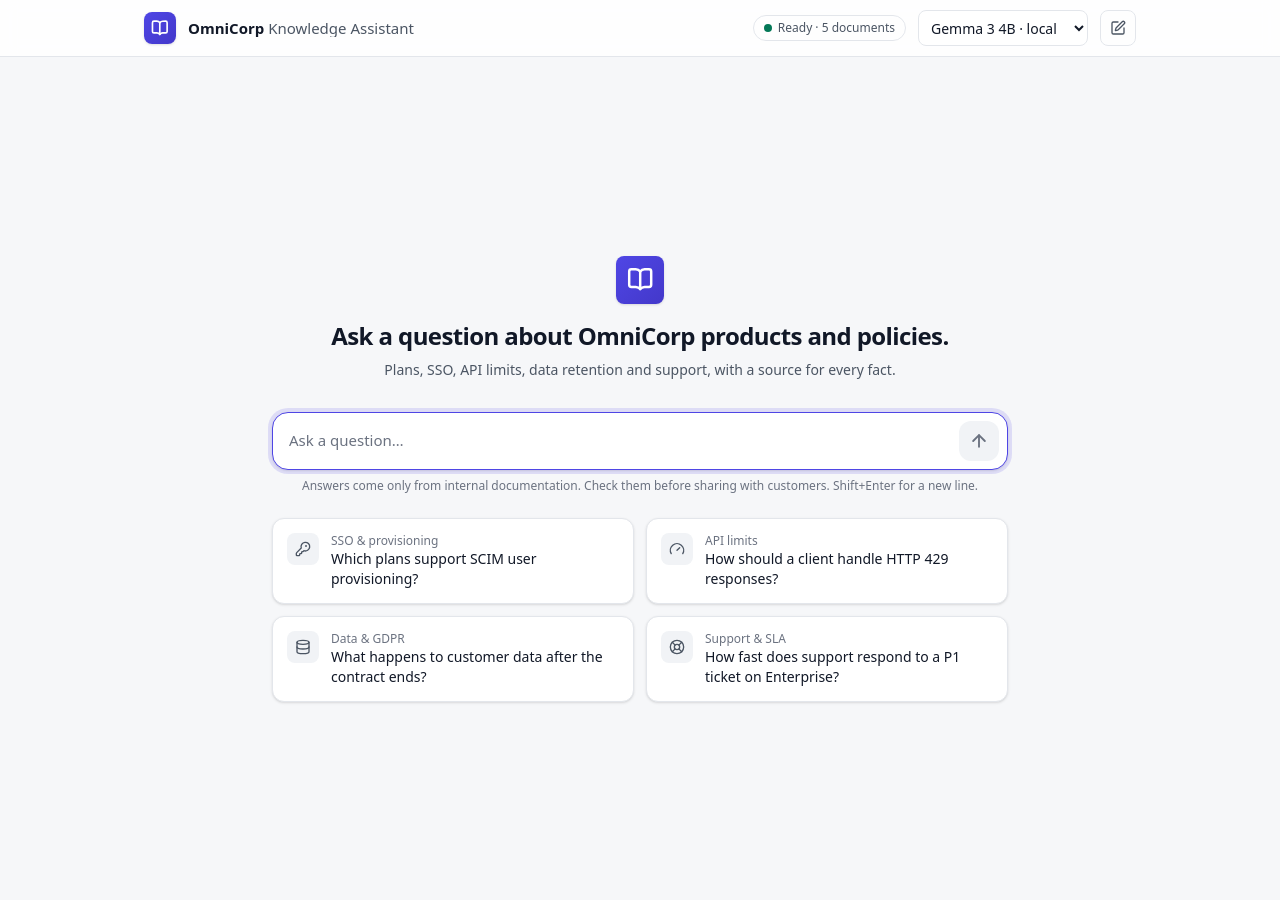
ChatPage › clears the conversation
The width and height of the screenshot is (1280, 900).
Type "Question one" into the text box named "Your question" at (616, 440), box [281, 420, 951, 460]
Then press Enter
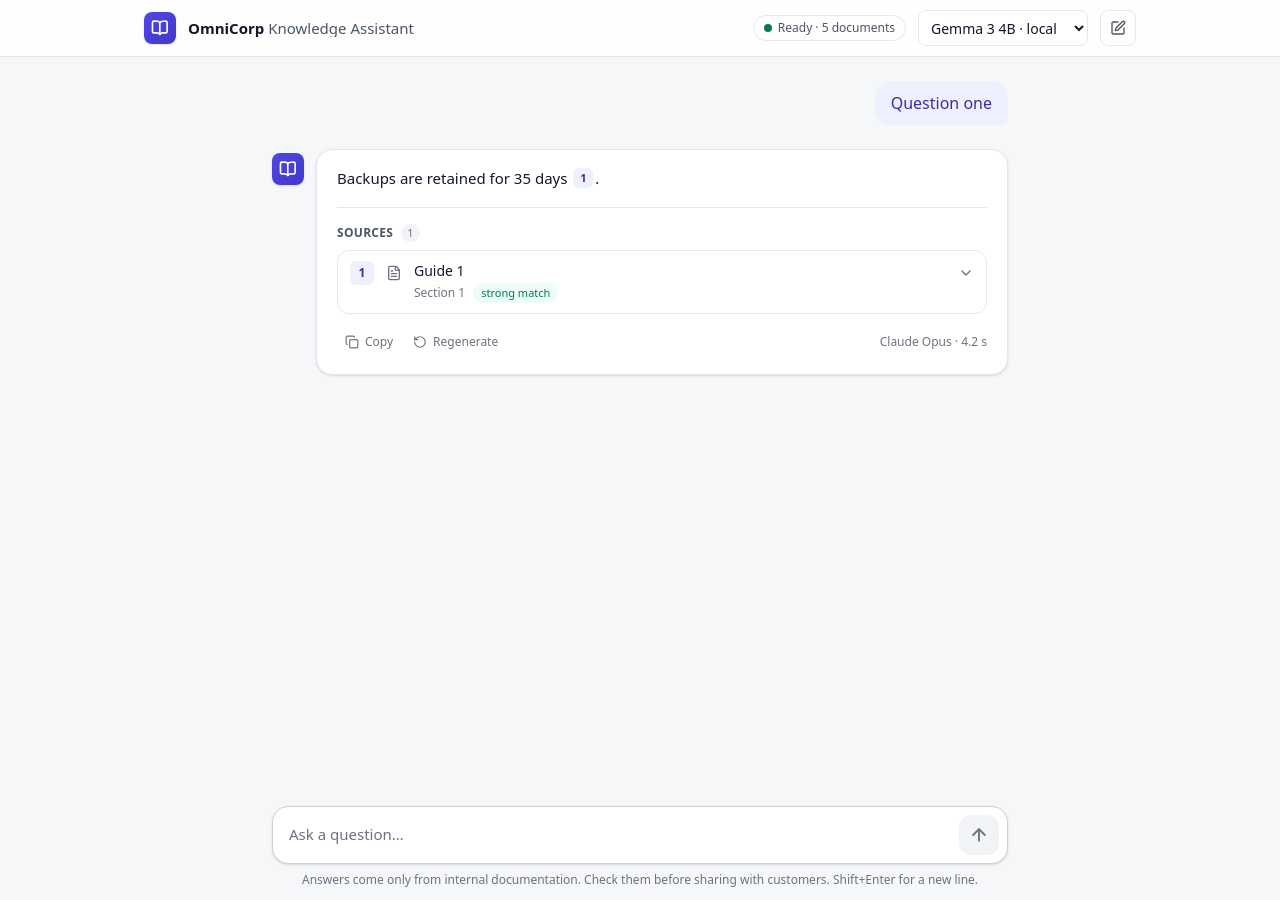
Now the text "Question one" is shown, box [875, 81, 1008, 125]
Click the button named "New conversation" at (1118, 28), box [1100, 10, 1136, 46]
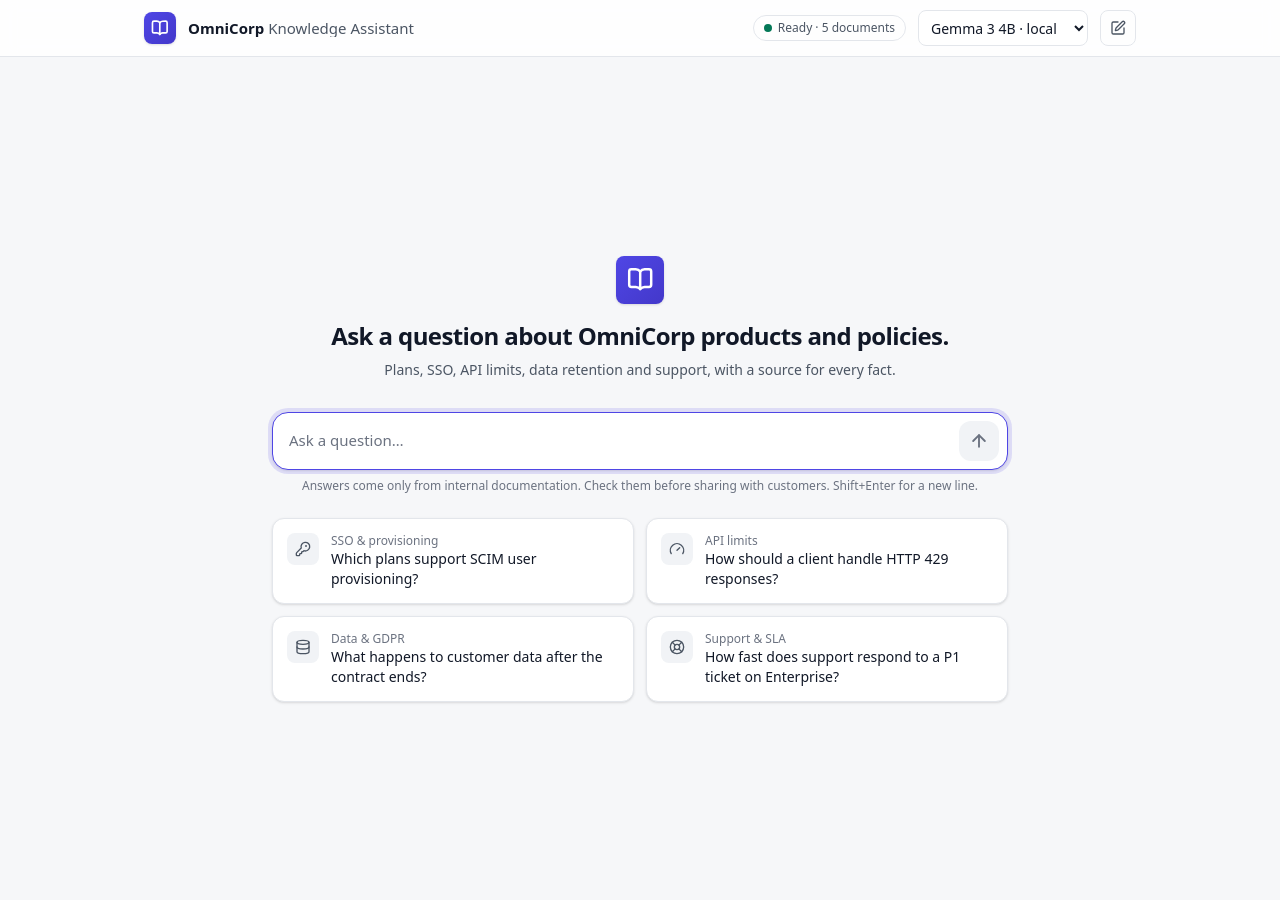
Now the text "Question one" is gone
Now the heading "Ask a question about OmniCorp products and policies." is shown, box [331, 318, 949, 352]
